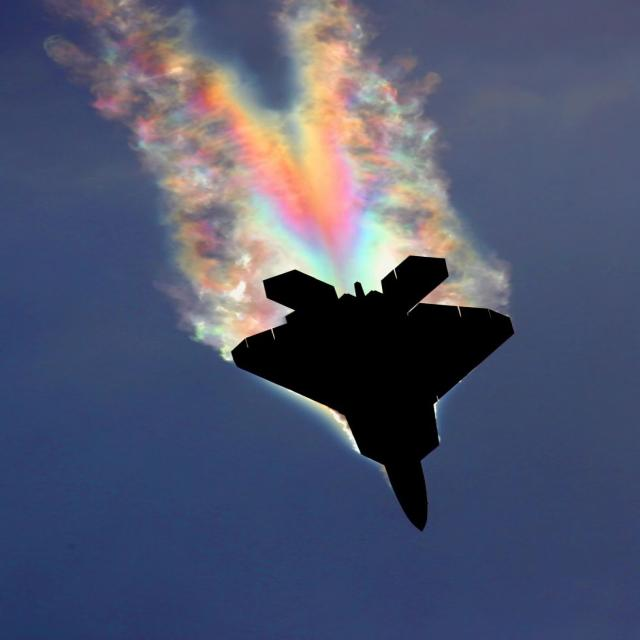MIL_Plane: (231, 255, 515, 533)
